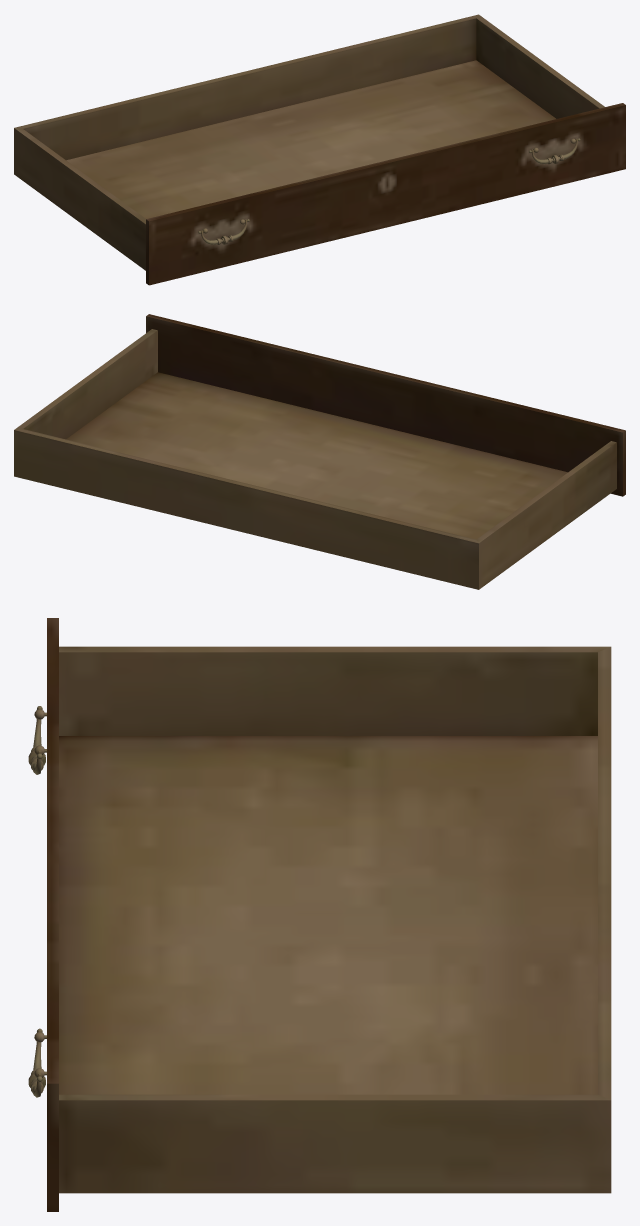
Rendered from SM_commode_drawer_02_ca2c72.glb.
The picture shows the model from 3 angles, top to bottom: view 1: azimuth 30°, elevation 25°; view 2: azimuth 150°, elevation 25°; view 3: azimuth 270°, elevation 25°; orthographic projection. The views are drawn at different scales.
Size of the model in its own units: 0.8872 by 0.1139 by 0.4696.
1 material, 1 textured.
